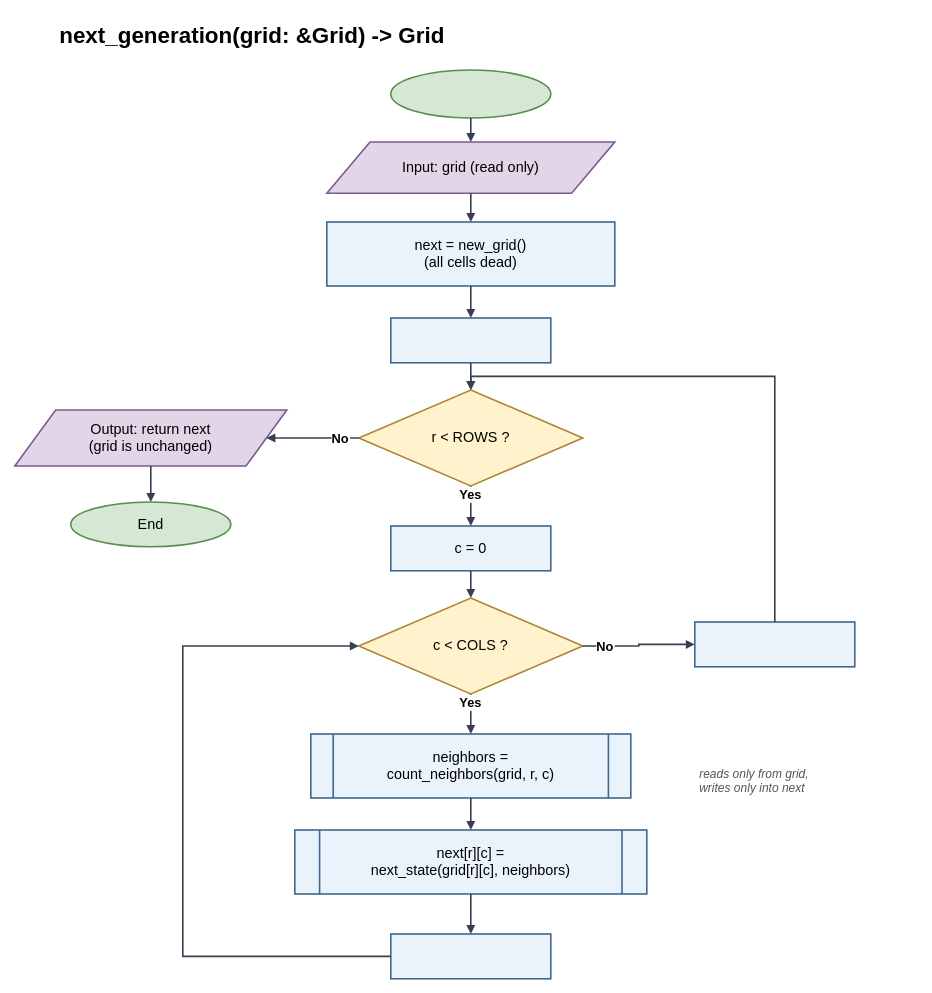
The diagram is 932 pixels wide and 993 high, and some of its shapes have lost their labels. The centre of each missing label's shape, as x and y in pixels:
c = c + 1: the point at 470,956
r = 0: the point at 470,340
r = r + 1: the point at 774,644
Start: the point at 470,93
